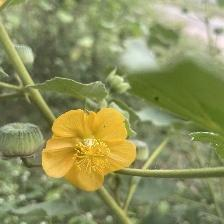indian mallow: (43, 108, 138, 192)
